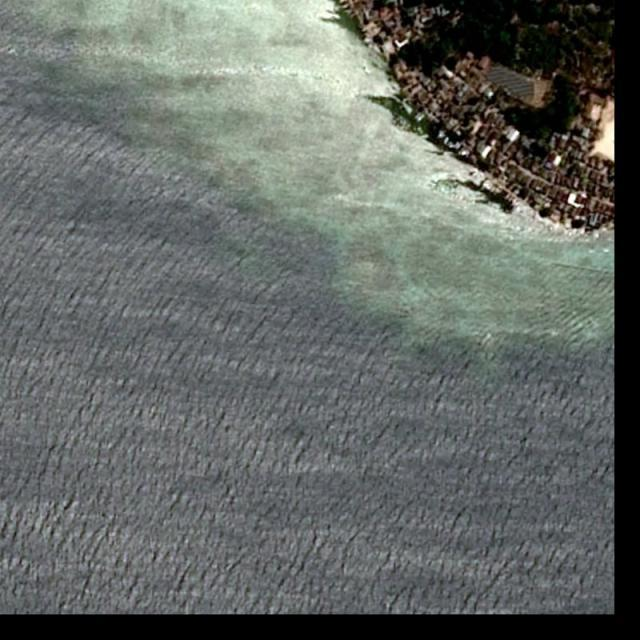ship: (604, 250, 610, 253)
